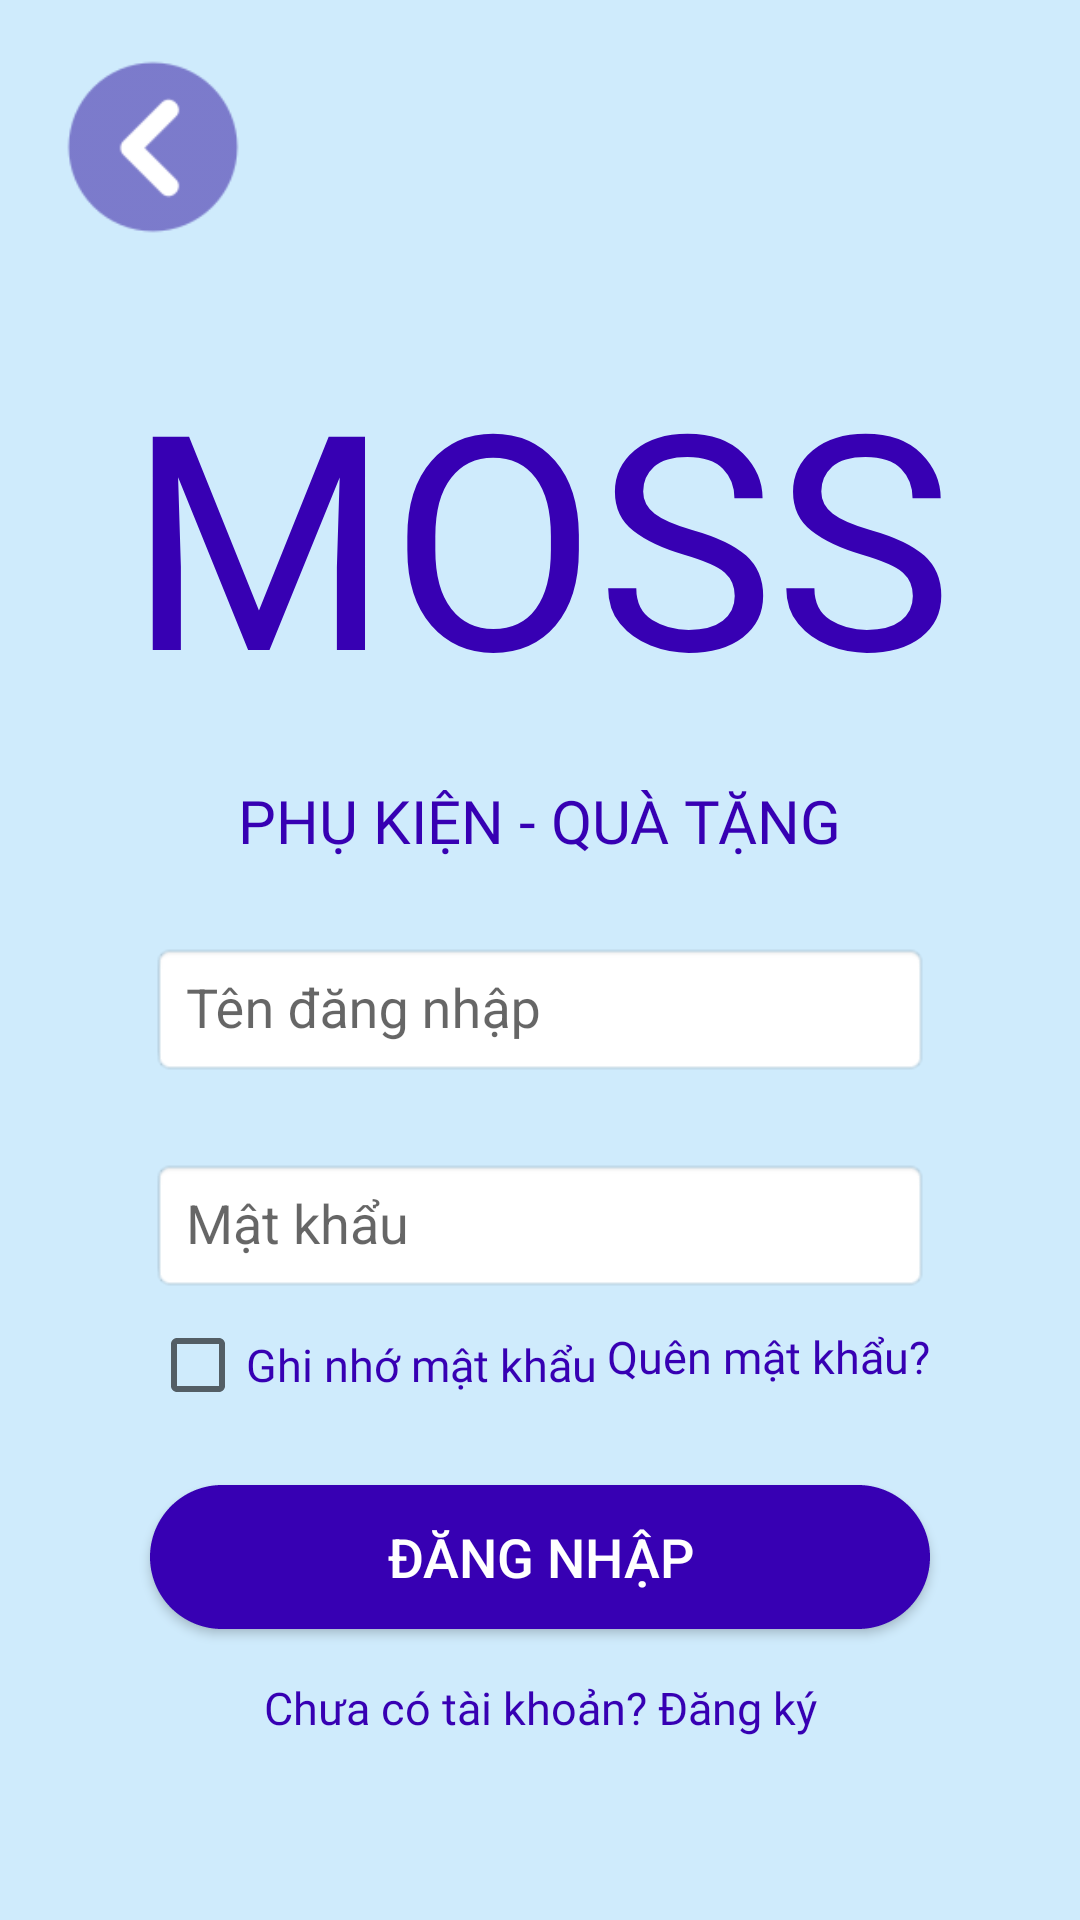

Where icons sit on this 1080px x 1920px app screen, as (x1, y1, x2, y2):
back: (68, 62, 238, 232)
